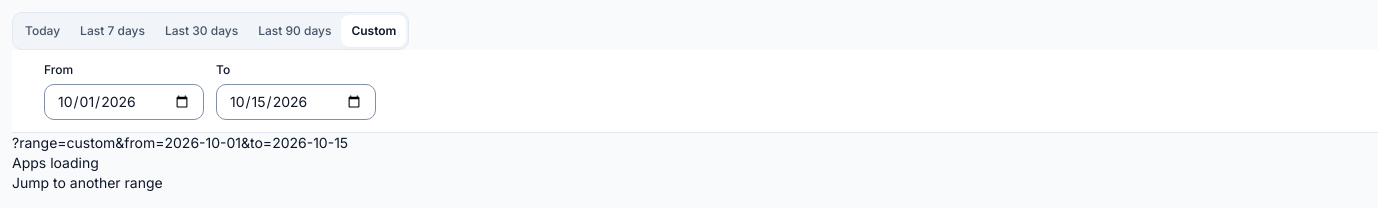
Scenario: custom dates › puts each edited date in the address
Type "2026-10-05" into the date field labelled "From" at (124, 102), box [44, 84, 204, 120]
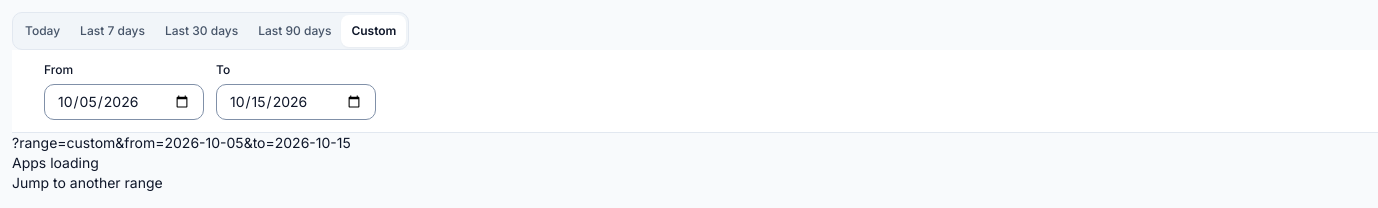
Result: the text with test id "address" reads "?range=custom&from=2026-10-05&to=2026-10-15" at [12, 134, 351, 151]
Type "2026-10-12" into the date field labelled "To" at (296, 102), box [216, 84, 376, 120]
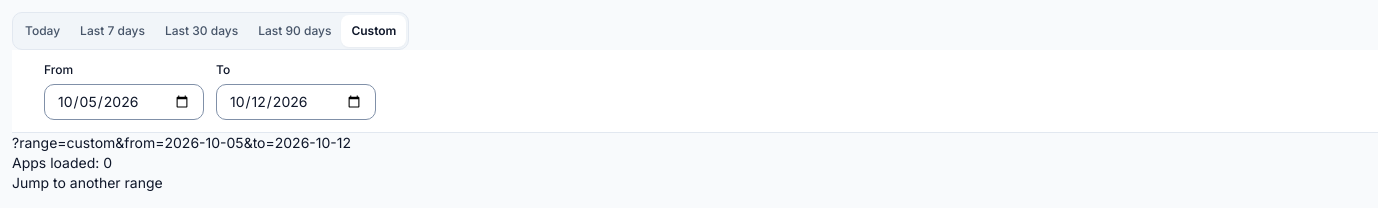
Result: the text with test id "address" reads "?range=custom&from=2026-10-05&to=2026-10-12" at [12, 134, 351, 151]
